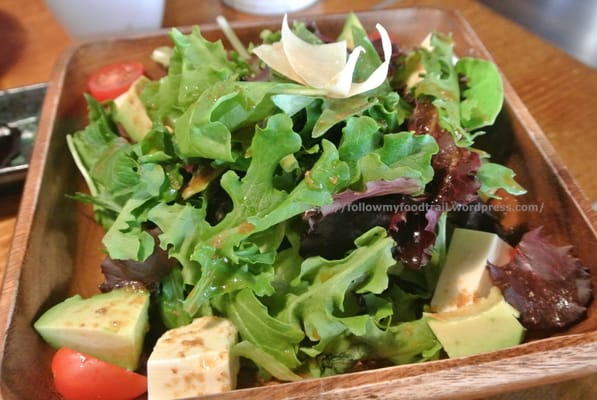pizza: (50, 347, 148, 399)
